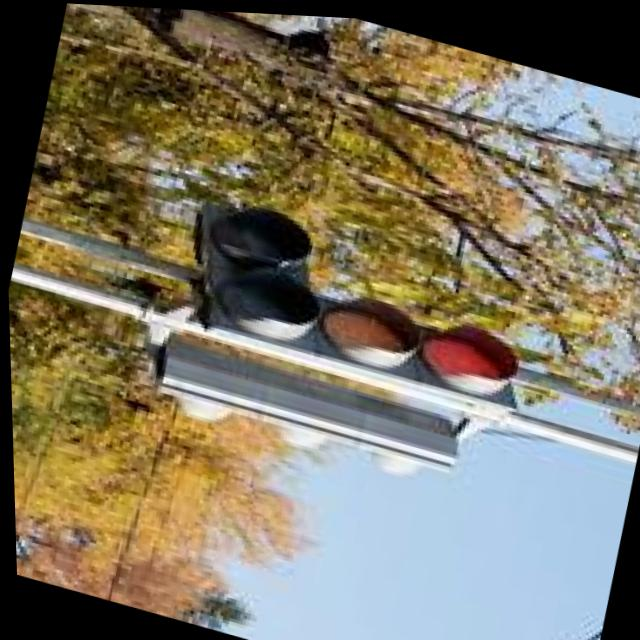green_light: (202, 220, 339, 370)
red_light: (408, 281, 528, 419)
yellow_light: (317, 272, 427, 393)
